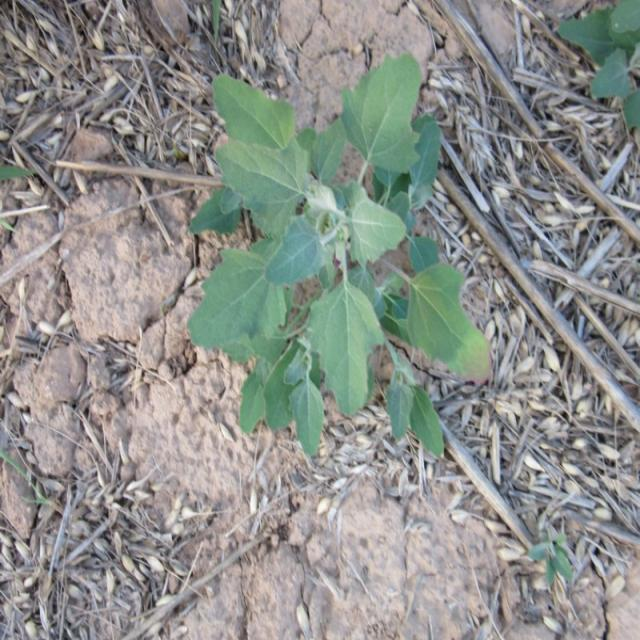ca: (193, 43, 493, 459)
